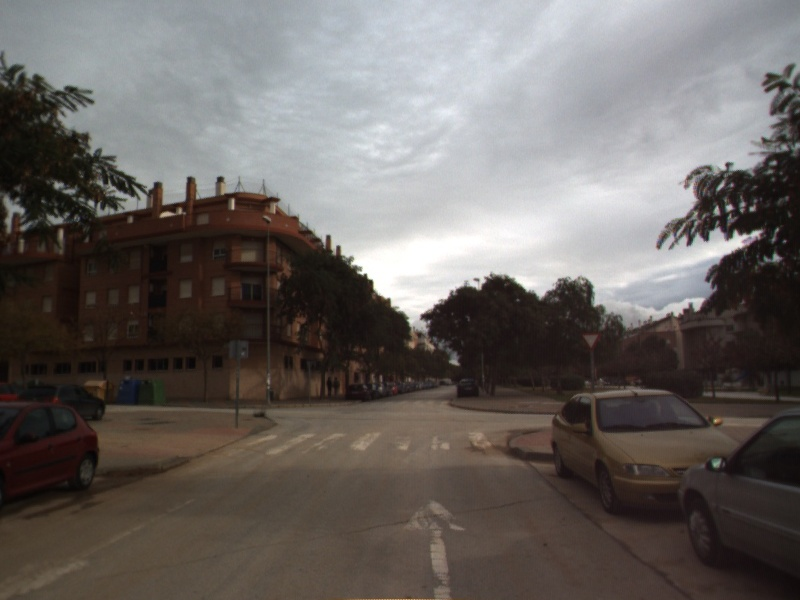STRAIGHT: (398, 493, 471, 600)
